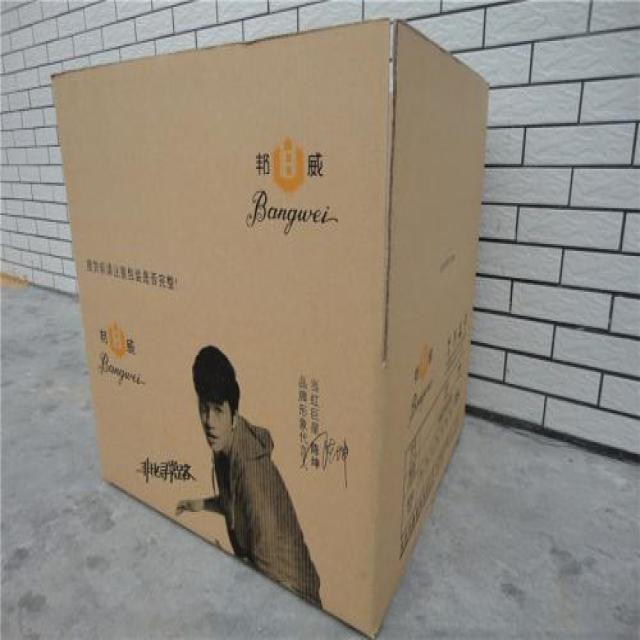cardboard: (52, 17, 486, 638)
